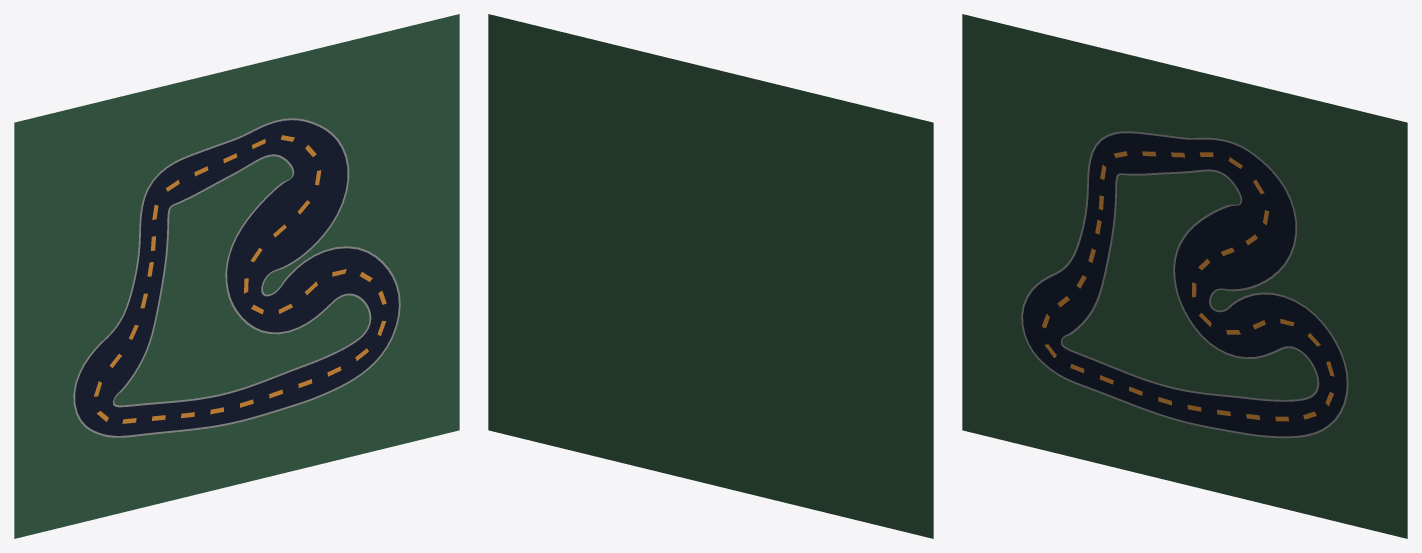
The model's file is track.obj.
3 renders of one model, left to right at view 1: azimuth 30°, elevation 25°; view 2: azimuth 150°, elevation 25°; view 3: azimuth 330°, elevation 25°, orthographic.
Bounding box in the file's own units: 9.83 × 8.78 × 0.0025.
Materials: 4 (4 with a texture image).
